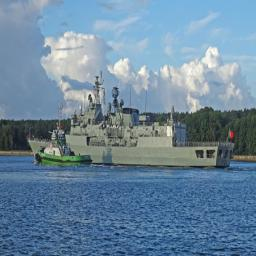Fragata: (28, 74, 238, 166)
